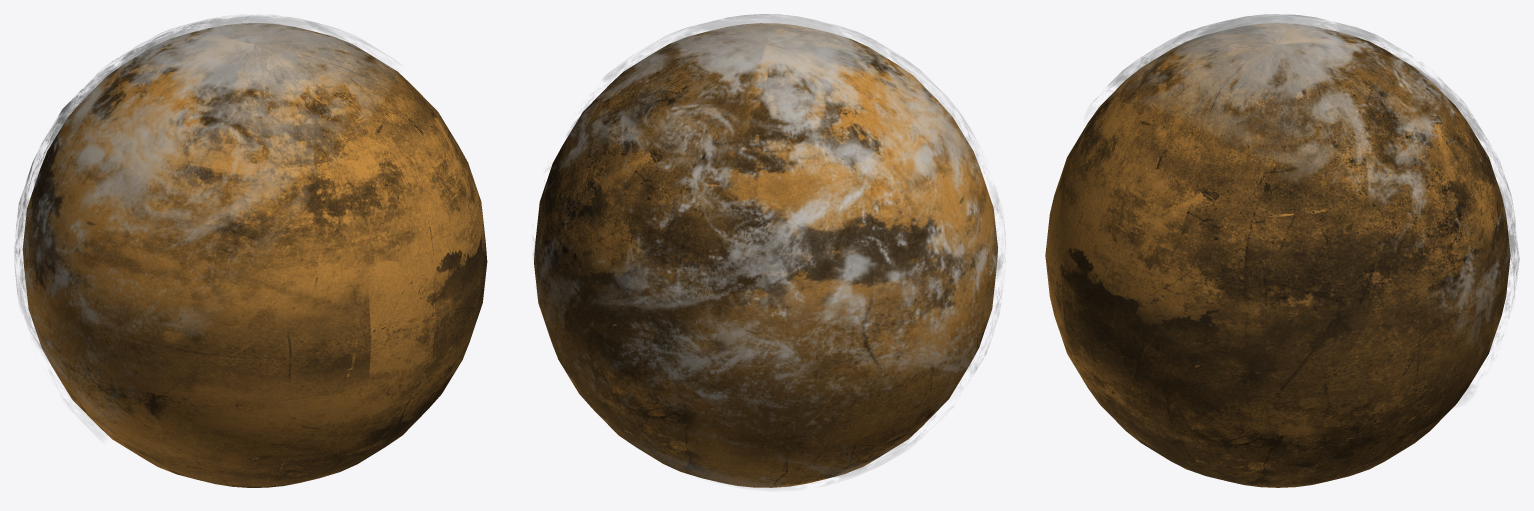
The model's file is planet.gltf.
3 renders of one model, left to right at view 1: azimuth 30°, elevation 25°; view 2: azimuth 150°, elevation 25°; view 3: azimuth 270°, elevation 25°, orthographic.
Visible parts, largest first — view 1: planet.001; view 2: planet.001; view 3: planet.001.
Part boxes in pixels (x1,y1,x2,y2): planet.001: (14, 14, 487, 487); planet.001: (533, 14, 1005, 489); planet.001: (1045, 14, 1519, 487).
Size of the model in its own units: 191 by 191 by 191.
2 materials, 2 textured.
